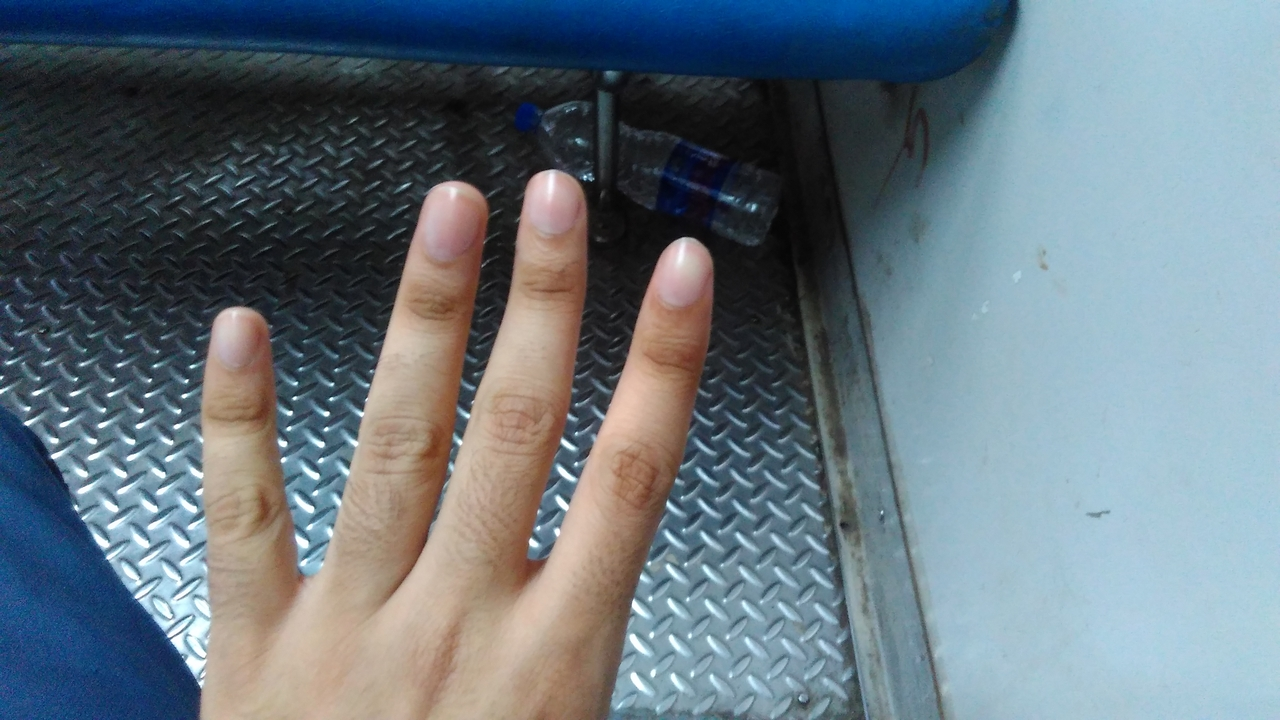fingertip: (410, 172, 490, 250), (512, 160, 586, 238), (646, 232, 718, 310), (205, 303, 277, 381)
